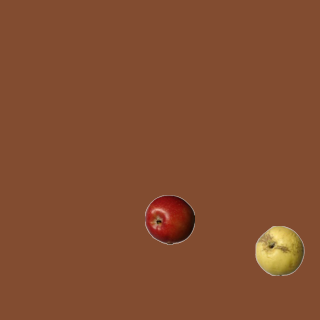Apple Braeburn: (144, 194, 194, 244)
Apple Golden 1: (254, 225, 304, 275)
